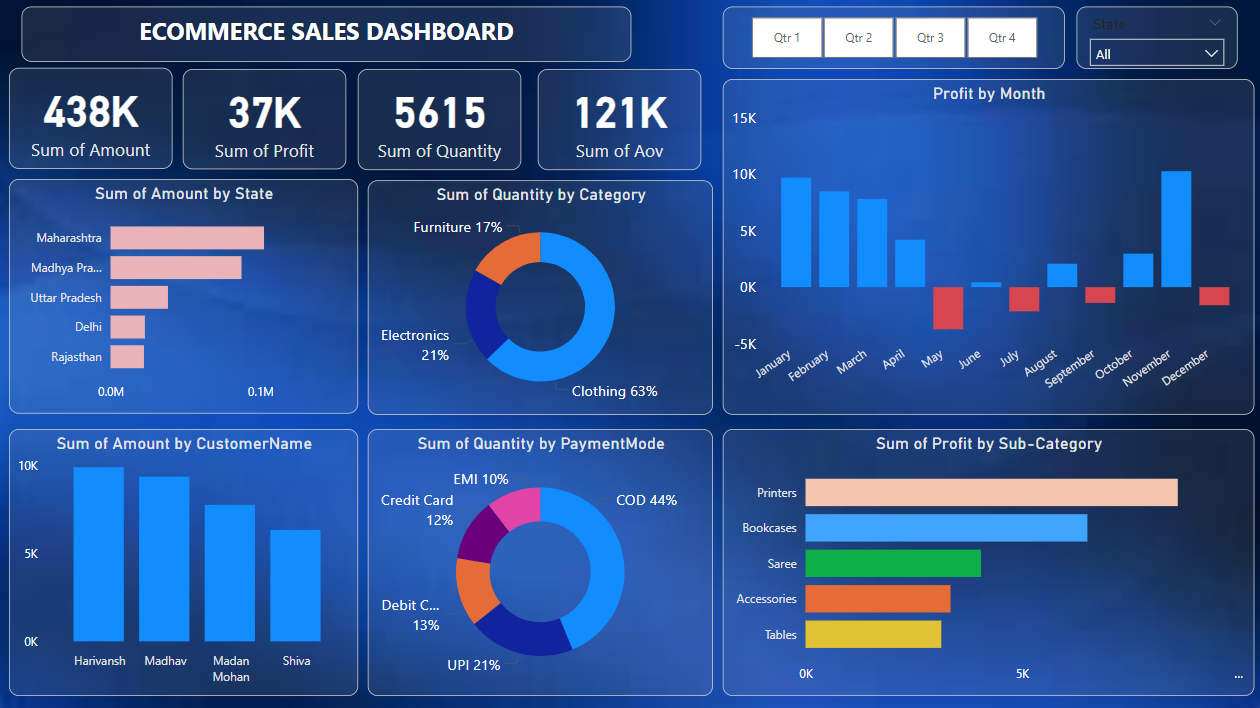

This screenshot's page, from the dashboard's own definition file:
{"tool":"powerbi","page":{"name":"Page 1","canvas":[1280,720],"ordinal":0},"visuals":[{"type":"textbox","box":[22.8,7.6,617.7,55.7],"z":0},{"type":"columnChart","title":"Profit by Month","fields":{"Y":["Details.Profit"],"Category":["Orders.Order Date.Variation.Date Hierarchy.Month"]},"box":[732.3,80.8,538.1,340.2],"z":1000},{"type":"barChart","fields":{"Category":["Details.Sub-Category"],"Y":["Details.Profit"]},"box":[732.3,435.5,538.1,270.2],"z":2000},{"type":"donutChart","fields":{"Category":["Details.Category"],"Y":["Details.Quantity"]},"box":[372.8,183.4,349.9,237.7],"z":3000},{"type":"donutChart","fields":{"Category":["Details.PaymentMode"],"Y":["Details.Quantity"]},"box":[372.8,435.5,349.9,270.2],"z":4000},{"type":"card","fields":{"Values":["Details.Amount"]},"box":[10.1,69.6,165.8,102.5],"z":5000},{"type":"card","fields":{"Values":["Details.Profit"]},"box":[186.1,70.9,165.8,101.3],"z":6000},{"type":"card","fields":{"Values":["Details.Aov"]},"box":[545.6,70.9,165.8,102.5],"z":7000},{"type":"card","fields":{"Values":["Details.Quantity"]},"box":[363.3,70.9,165.8,102.5],"z":8000},{"type":"barChart","fields":{"Y":["Details.Amount"],"Category":["Orders.State"]},"box":[9.7,182.2,353.5,237.7],"z":9000},{"type":"columnChart","fields":{"Category":["Orders.CustomerName"],"Y":["Details.Amount"]},"box":[9.7,435.5,353.5,270.2],"z":10000},{"type":"slicer","fields":{"Values":["Orders.Order Date.Variation.Date Hierarchy.Quarter"]},"box":[733,8,346,63],"z":11000},{"type":"slicer","fields":{"Values":["Orders.State"]},"box":[1091,8,163,63],"z":12000}]}

Visuals, with their boxes in screenshot pixels (x1, y1, x2, y2), scaled from the page's 1280x720 canvas onto the 1260x708 screenshot:
textbox: rect(22, 7, 630, 62)
"Profit by Month" columnChart: rect(721, 79, 1251, 414)
barChart - Details.Sub-Category x Details.Profit: rect(721, 428, 1251, 694)
donutChart - Details.Category x Details.Quantity: rect(367, 180, 711, 414)
donutChart - Details.PaymentMode x Details.Quantity: rect(367, 428, 711, 694)
card - Details.Amount: rect(10, 68, 173, 169)
card - Details.Profit: rect(183, 70, 346, 169)
card - Details.Aov: rect(537, 70, 700, 171)
card - Details.Quantity: rect(358, 70, 521, 171)
barChart - Details.Amount x Orders.State: rect(10, 179, 358, 413)
columnChart - Orders.CustomerName x Details.Amount: rect(10, 428, 358, 694)
slicer - Orders.Order Date.Variation.Date Hierarchy.Quarter: rect(722, 8, 1062, 70)
slicer - Orders.State: rect(1074, 8, 1234, 70)
